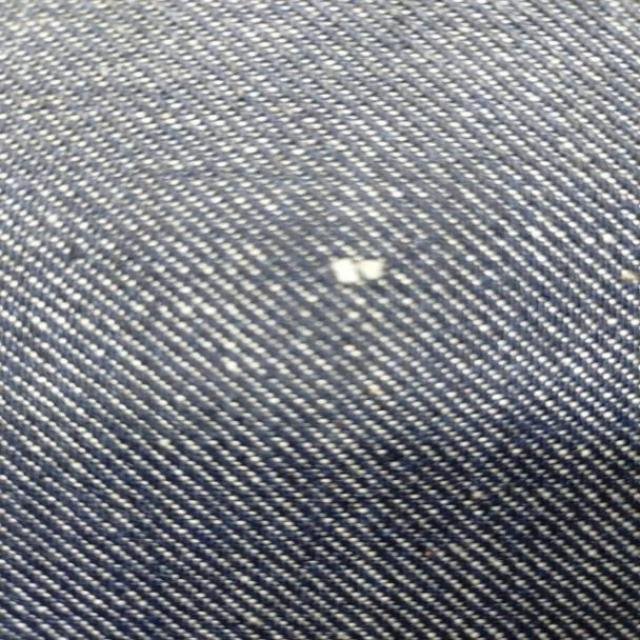Knot: (331, 260, 385, 285)
